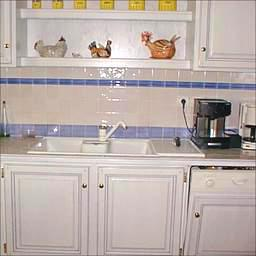Electrodomestico: (185, 165, 253, 255)
Lavaplatos: (21, 113, 151, 155)
